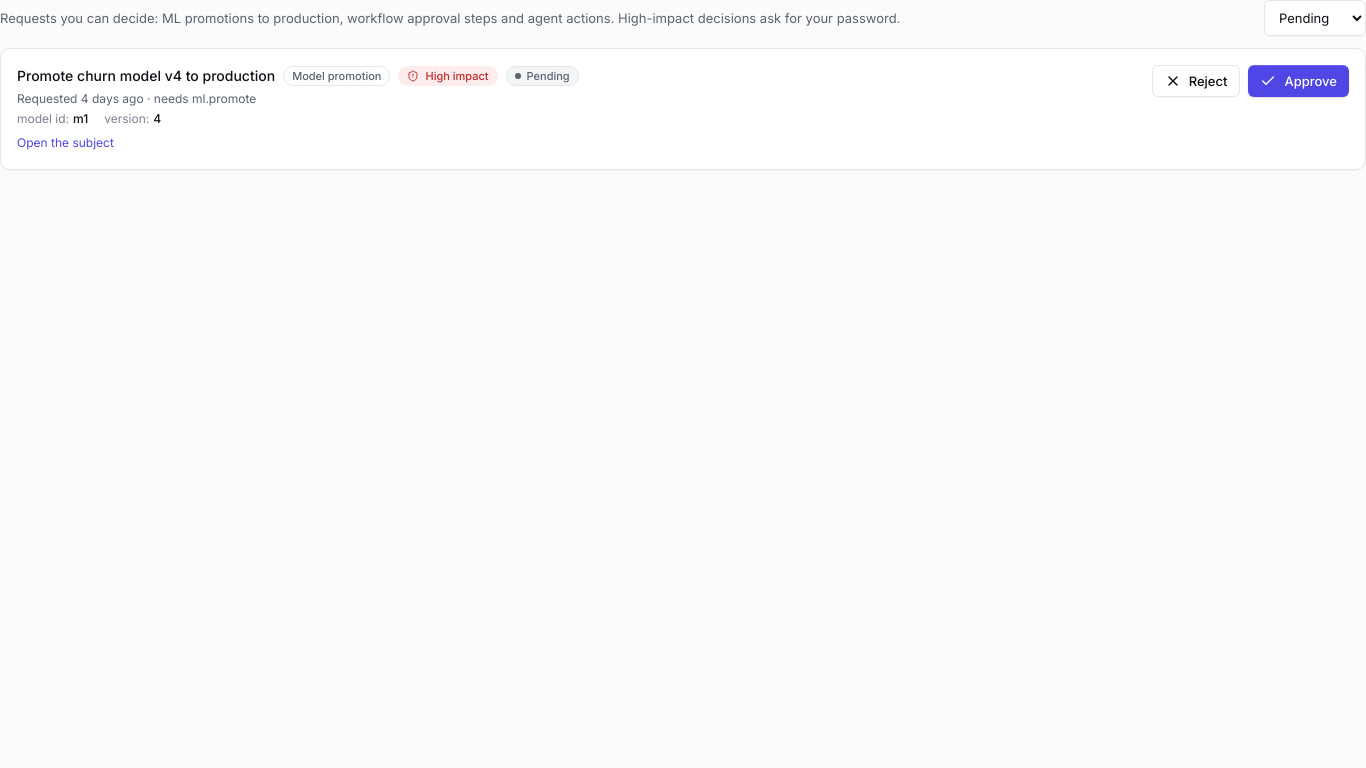
Scenario: ApprovalsInbox › shows a wrong password next to the field
Click the button "Reject": (1196, 81) [1152, 65, 1240, 97]
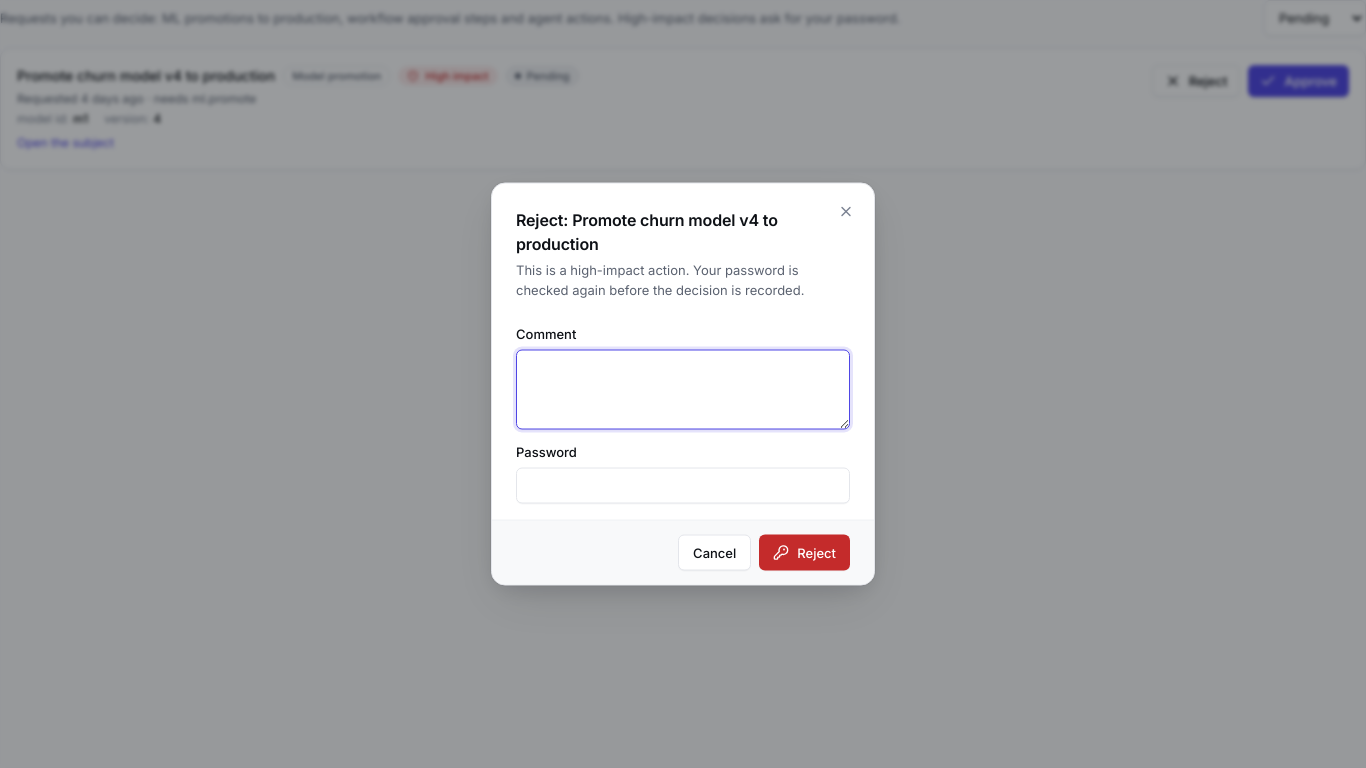
In the password field labelled "Password": (683, 486) [516, 468, 850, 504], type "wrong"
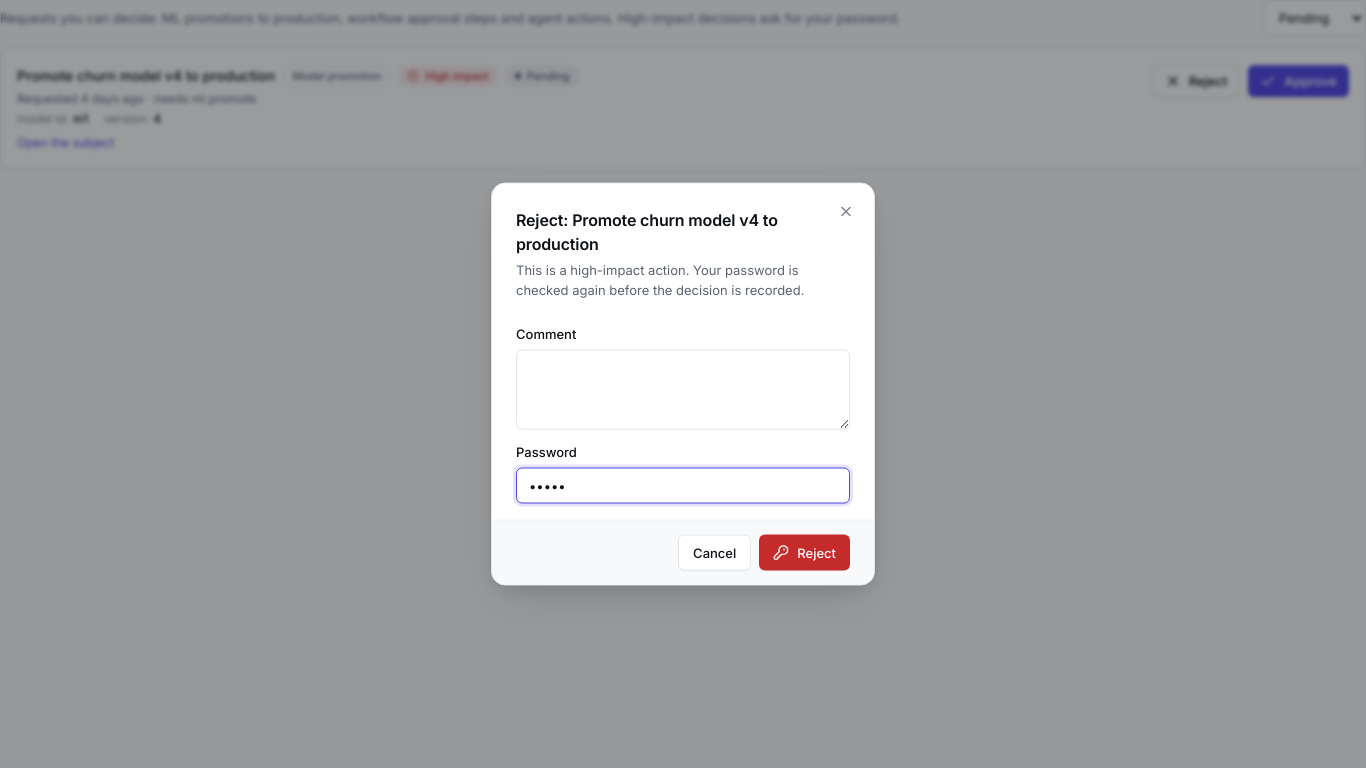
Click the button "Reject": (805, 552) [759, 534, 850, 570]
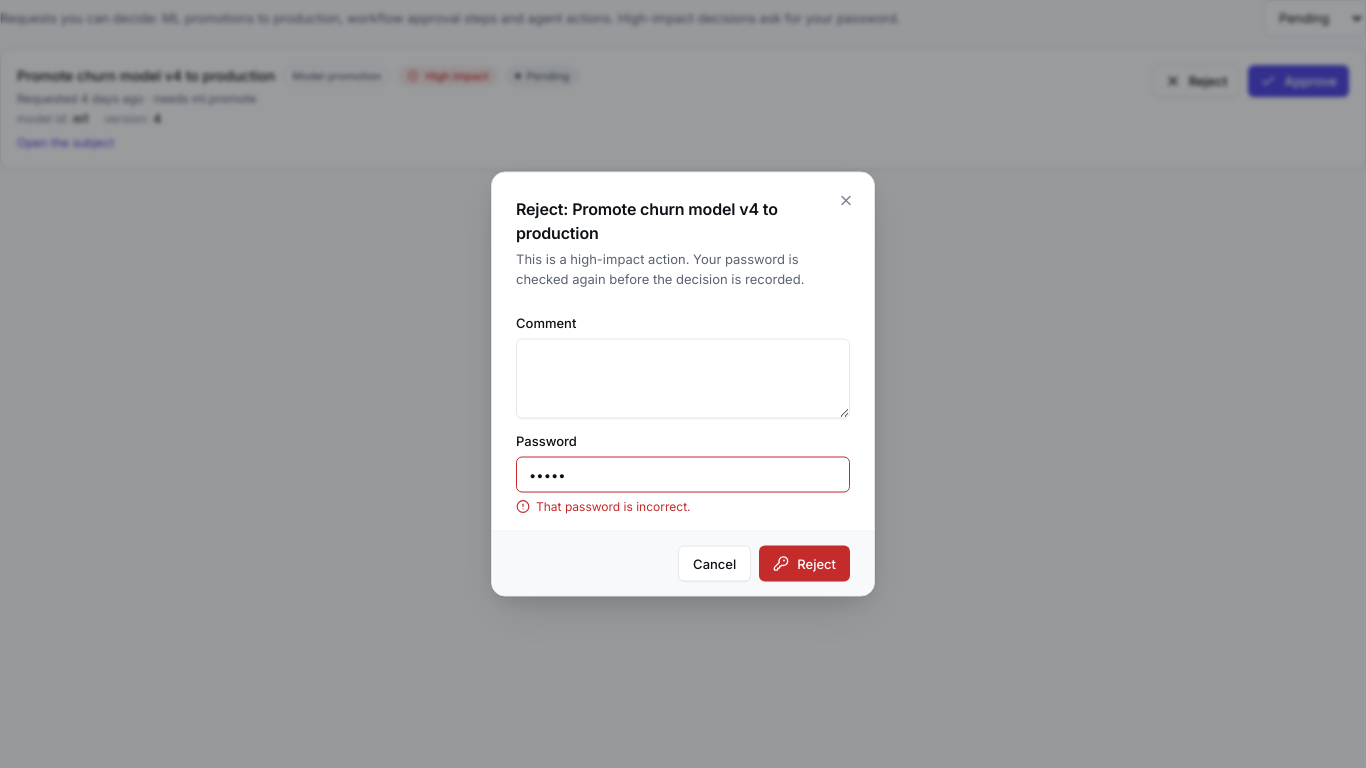
Now the text "That password is incorrect." is shown, box [516, 498, 690, 514]
